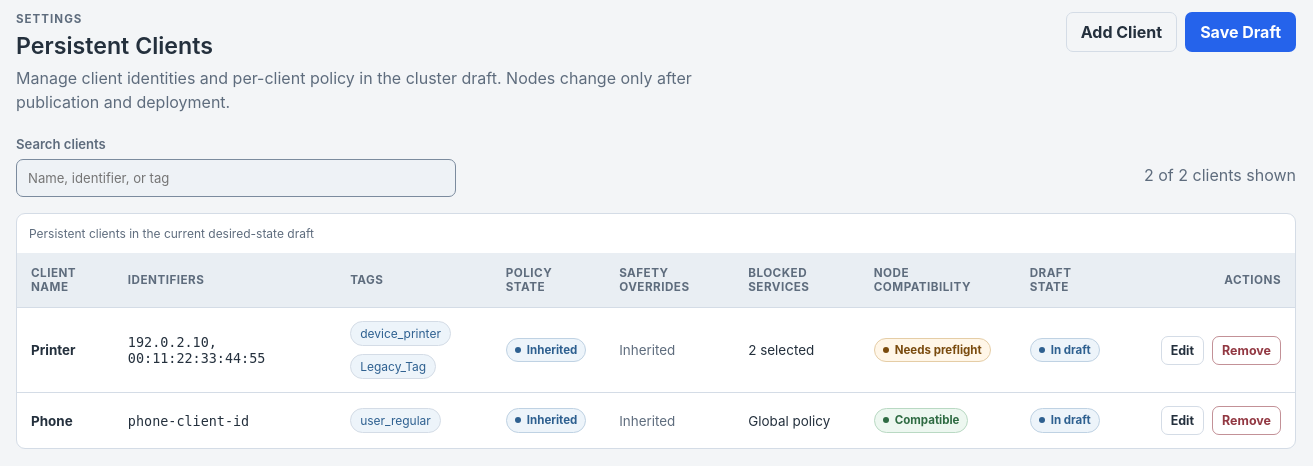
persistent clients page › migrates existing clients to searchable rows without losing summaries
Check: the text "Printer" is shown, box [31, 342, 76, 358]
Check: the text "Phone" is shown, box [31, 412, 73, 428]
Type "phone-client" into the search field labelled "Search clients". click: (236, 178)
box: [16, 159, 456, 197]
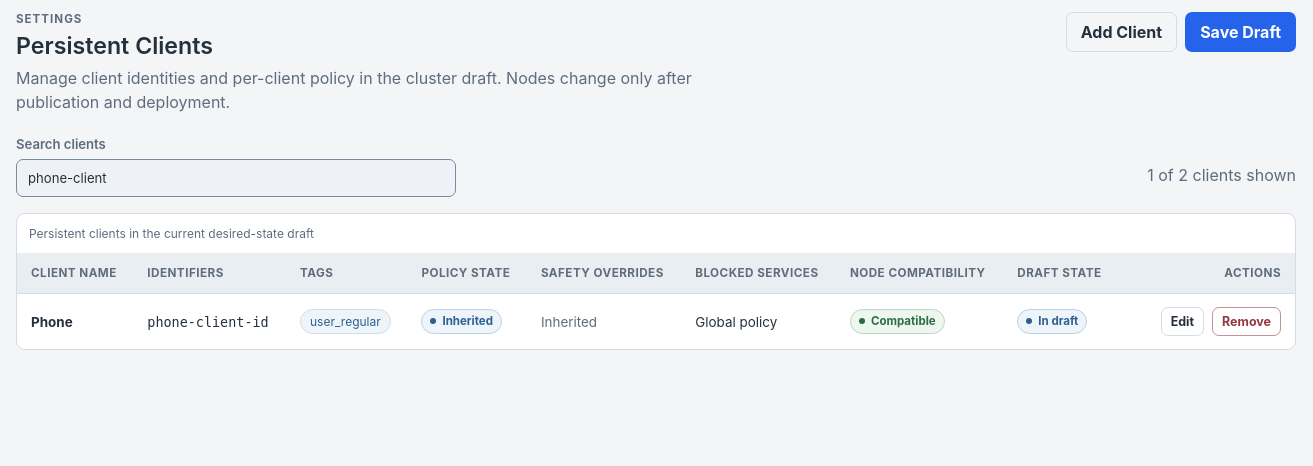
Check: the text "Phone" is shown, box [31, 314, 73, 330]
Check: the text "Printer" is gone
Replace the text in the search field labelled "Search clients" with "legacy_tag". click: (236, 178)
box: [16, 159, 456, 197]
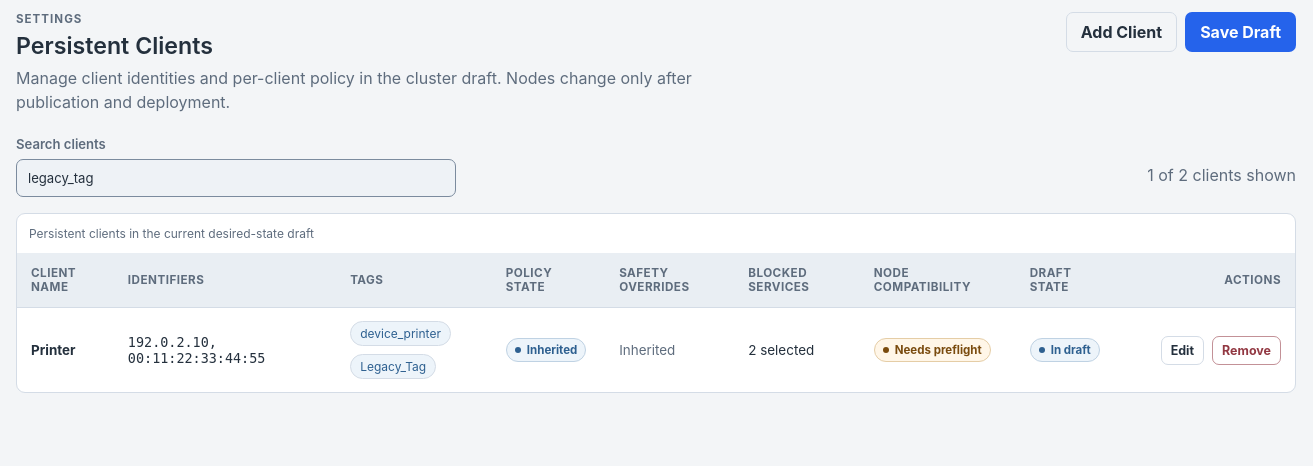
Check: the text "Printer" is shown, box [31, 342, 76, 358]
Check: the text "Phone" is gone
